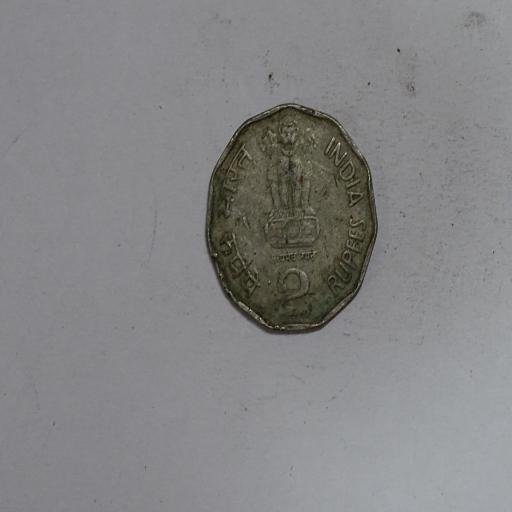rupee2: (204, 104, 377, 334)
